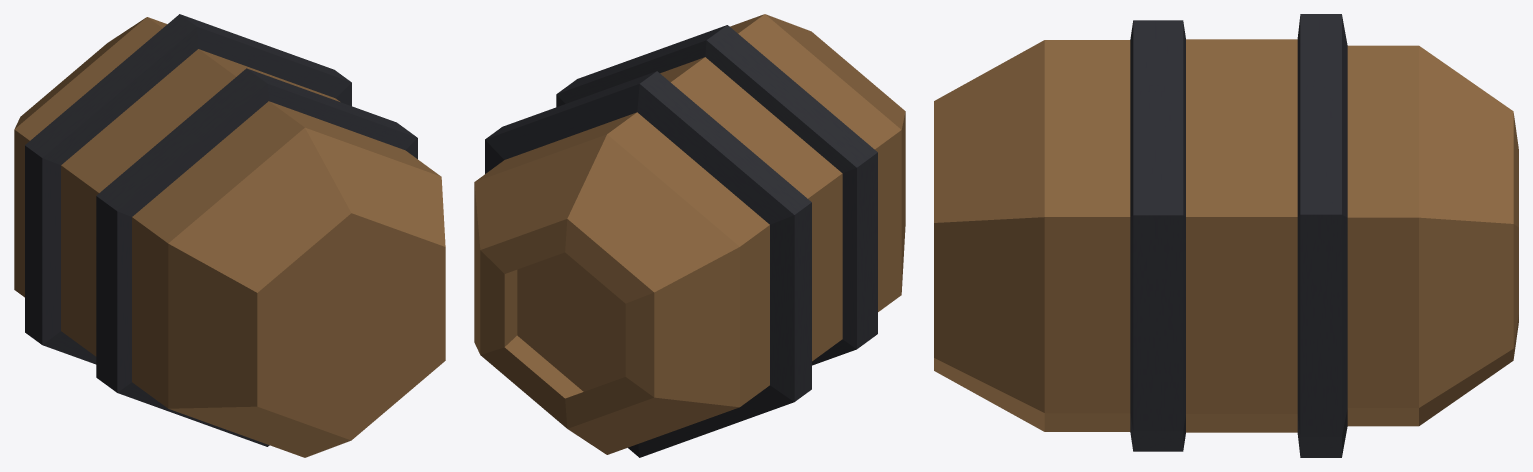
File: desert_share_box.FBX
3 renders of one model, left to right at view 1: azimuth 30°, elevation 25°; view 2: azimuth 150°, elevation 25°; view 3: azimuth 270°, elevation 25°, orthographic. The views are drawn at different scales.
Parts seen in each view (by area): view 1: desert_box; view 2: desert_box; view 3: desert_box.
Boxes of the visible parts, <box> form: desert_box: <box>14,14,445,457</box>; desert_box: <box>474,14,905,457</box>; desert_box: <box>934,14,1518,457</box>.
Size of the model in its own units: 50.51 by 58.32 by 69.62.
